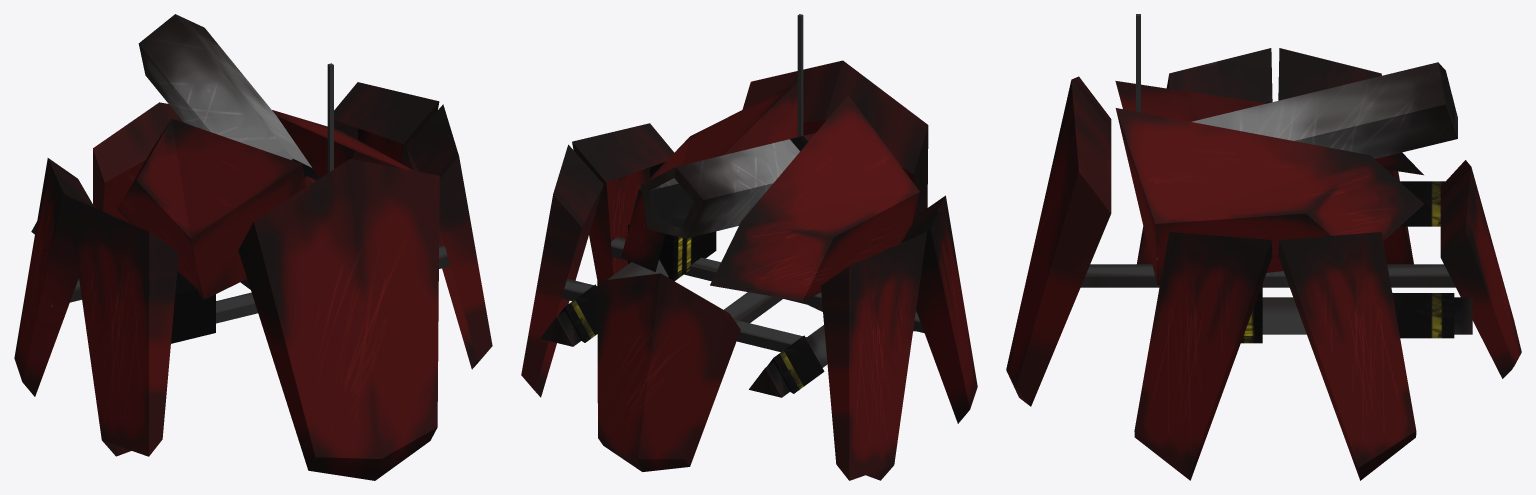
Rendered from TDTowerMortar4.fbx.
3 renders of one model, left to right at view 1: azimuth 30°, elevation 25°; view 2: azimuth 150°, elevation 25°; view 3: azimuth 270°, elevation 25°, orthographic. The views are drawn at different scales.
Parts seen in each view (by area): view 1: polySurface492, polySurface491; view 2: polySurface492, polySurface491; view 3: polySurface492, polySurface491.
Part boxes in pixels (x1=…): polySurface492: x1=14, y1=82, x2=492, y2=480; polySurface491: x1=117, y1=14, x2=413, y2=299; polySurface492: x1=521, y1=60, x2=977, y2=480; polySurface491: x1=621, y1=14, x2=919, y2=301; polySurface492: x1=1006, y1=48, x2=1521, y2=480; polySurface491: x1=1115, y1=14, x2=1457, y2=285.
Bounding box in the file's own units: 23.01 × 21.34 × 25.63.
